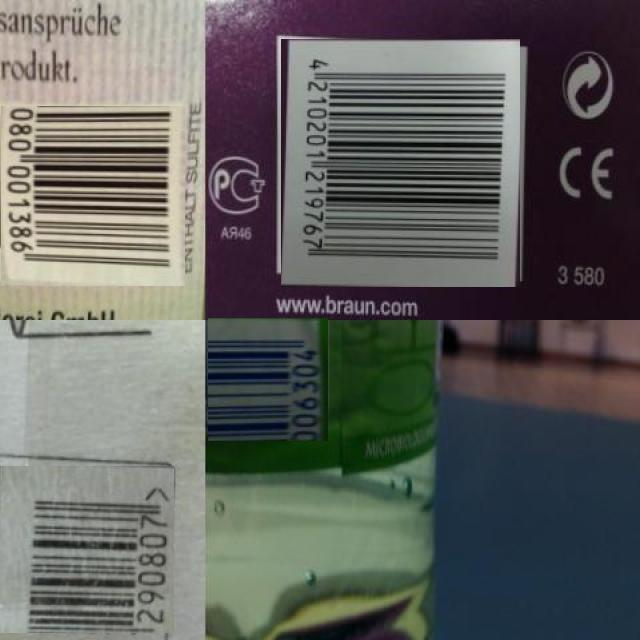Barcode: (278, 41, 522, 284), (0, 103, 183, 289), (0, 463, 171, 637), (206, 319, 328, 441)
